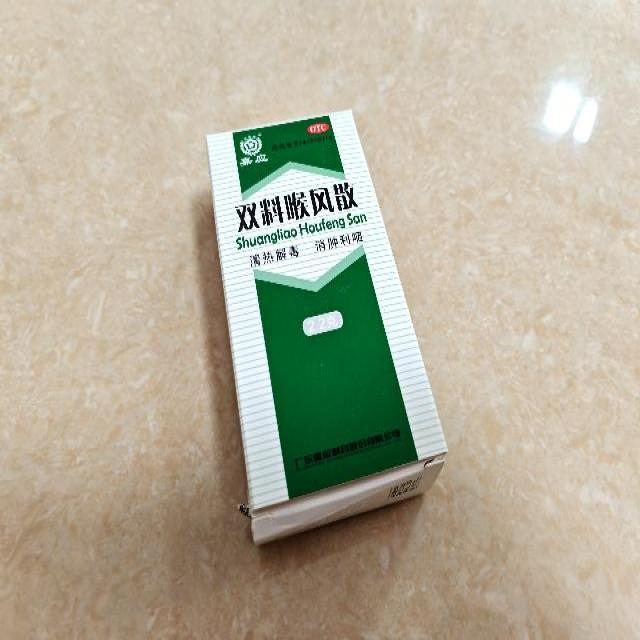box: (204, 108, 446, 548)
